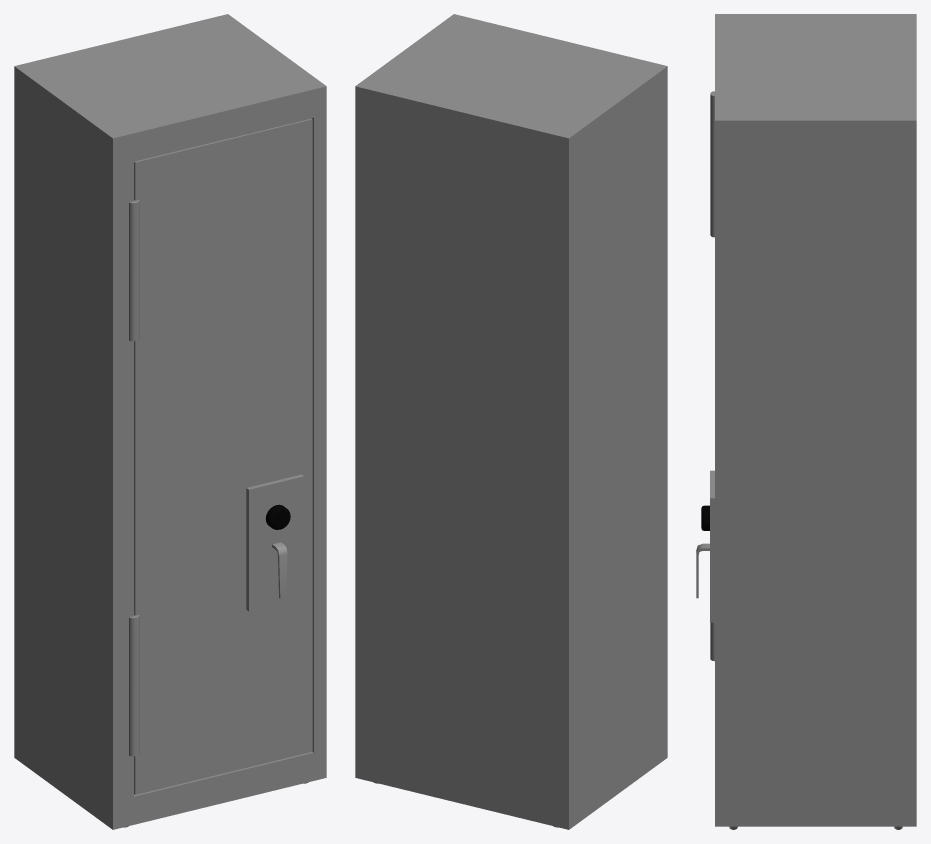
File: SingleLockerGrey_PlayerRoom_Model.FBX
3 views of the same model, side by side, from view 1: azimuth 30°, elevation 25°; view 2: azimuth 150°, elevation 25°; view 3: azimuth 270°, elevation 25° (orthographic). The views are drawn at different scales.
Parts seen in each view (by area): view 1: Baytek_PlayerRoom_Set01_Locker; view 2: Baytek_PlayerRoom_Set01_Locker; view 3: Baytek_PlayerRoom_Set01_Locker.
Part boxes in pixels (x1=…): Baytek_PlayerRoom_Set01_Locker: x1=14, y1=14, x2=326, y2=829; Baytek_PlayerRoom_Set01_Locker: x1=355, y1=14, x2=667, y2=829; Baytek_PlayerRoom_Set01_Locker: x1=696, y1=14, x2=916, y2=829.
Bounding box in the file's own units: 60.01 × 188 × 52.51.
